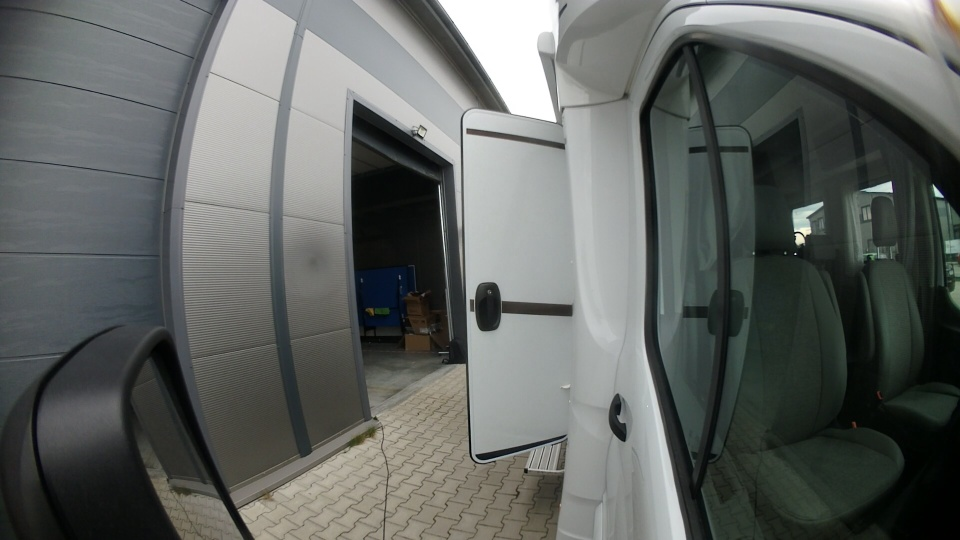door_front: (454, 100, 588, 464)
step_front: (523, 437, 578, 481)
